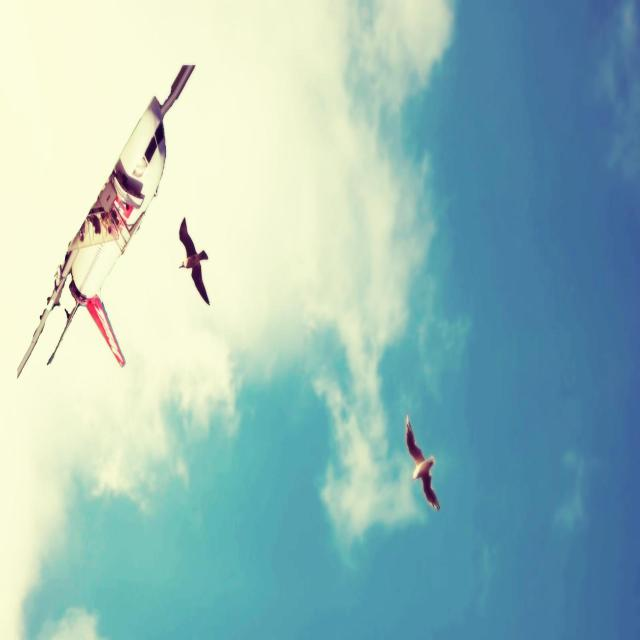airplane: (16, 62, 196, 378)
